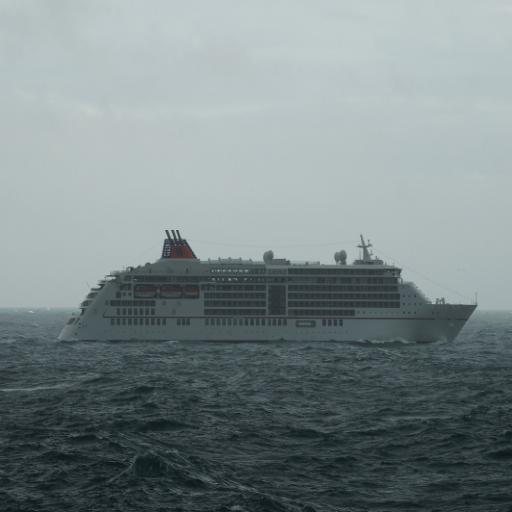cruises: (57, 226, 481, 349)
